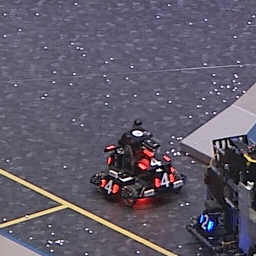Blue: (198, 213, 215, 234)
Red: (137, 153, 170, 168), (153, 174, 175, 188), (100, 177, 118, 194)
Robot: (89, 119, 187, 203), (188, 138, 256, 254)
